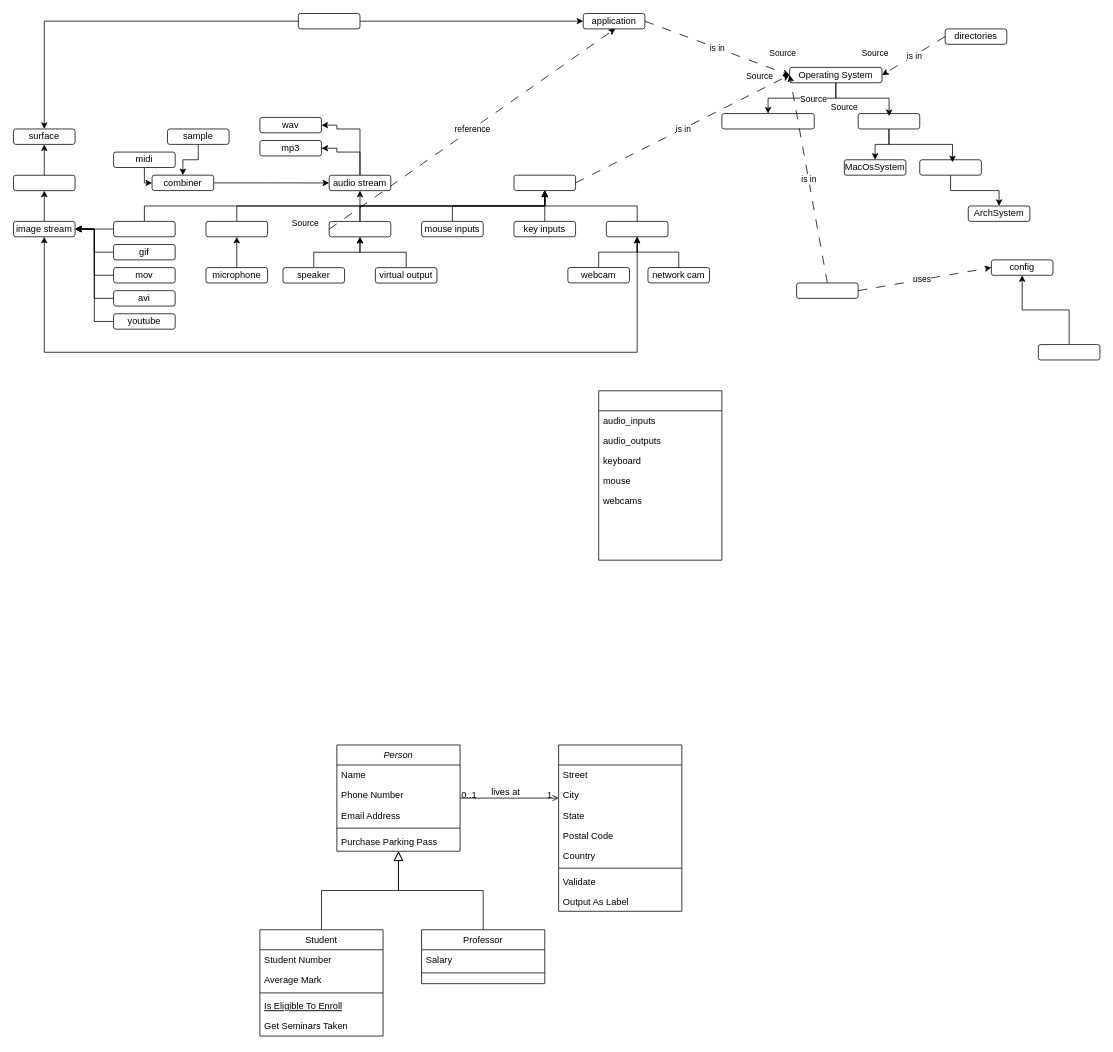
Some shapes in this 1113 by 1052 pixel diagram are drawn without their labels. The box of each missing label's shape, as (x1, y1, x2, y2) in pixels:
Address: (558, 744, 682, 911)
audio input: (205, 221, 268, 237)
audio output: (328, 221, 391, 237)
camera: (606, 221, 668, 237)
Computer: (598, 390, 722, 560)
device: (513, 174, 576, 191)
display: (113, 221, 175, 237)
image: (13, 174, 75, 191)
LinuxSystem: (919, 159, 981, 175)
script params: (1038, 344, 1100, 360)
shell: (796, 282, 858, 298)
UnixSystem: (857, 113, 920, 129)
window: (298, 13, 360, 29)
WindowsSystem: (721, 113, 814, 129)
